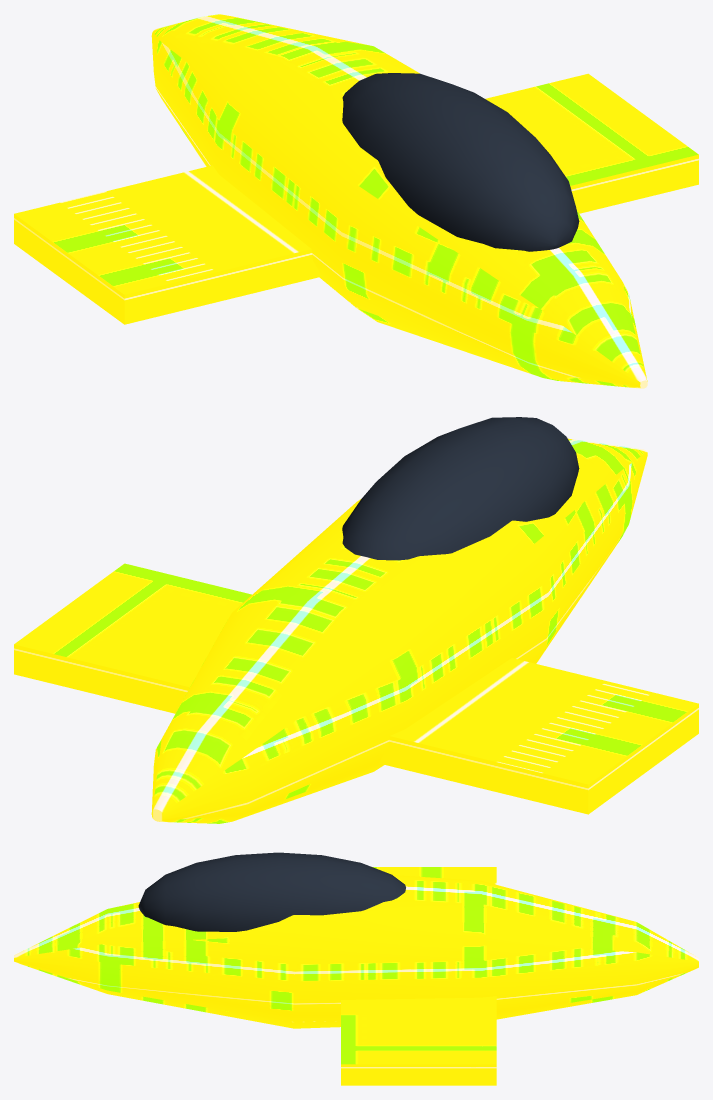
Rendered from HULL.glb.
3 renders of one model, top to bottom at view 1: azimuth 30°, elevation 25°; view 2: azimuth 150°, elevation 25°; view 3: azimuth 270°, elevation 25°, orthographic. The views are drawn at different scales.
Visible parts, largest first — view 1: HULL_01; view 2: HULL_01; view 3: HULL_01.
Part boxes in pixels (<box>): HULL_01: <box>14,14,698,388</box>; HULL_01: <box>14,417,698,823</box>; HULL_01: <box>14,852,698,1085</box>.
Size of the model in its own units: 3 by 1.12 by 4.4.
Materials: 2 (1 with a texture image).
